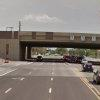Bridge: (7, 20, 96, 52)
